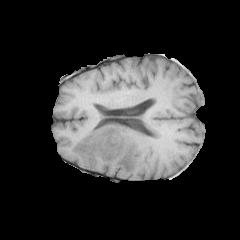glioma: (72, 125, 141, 173)
